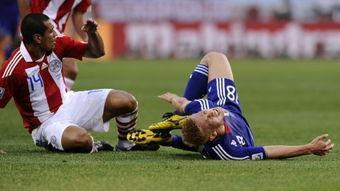Fall-Detected: (0, 8, 152, 155)
